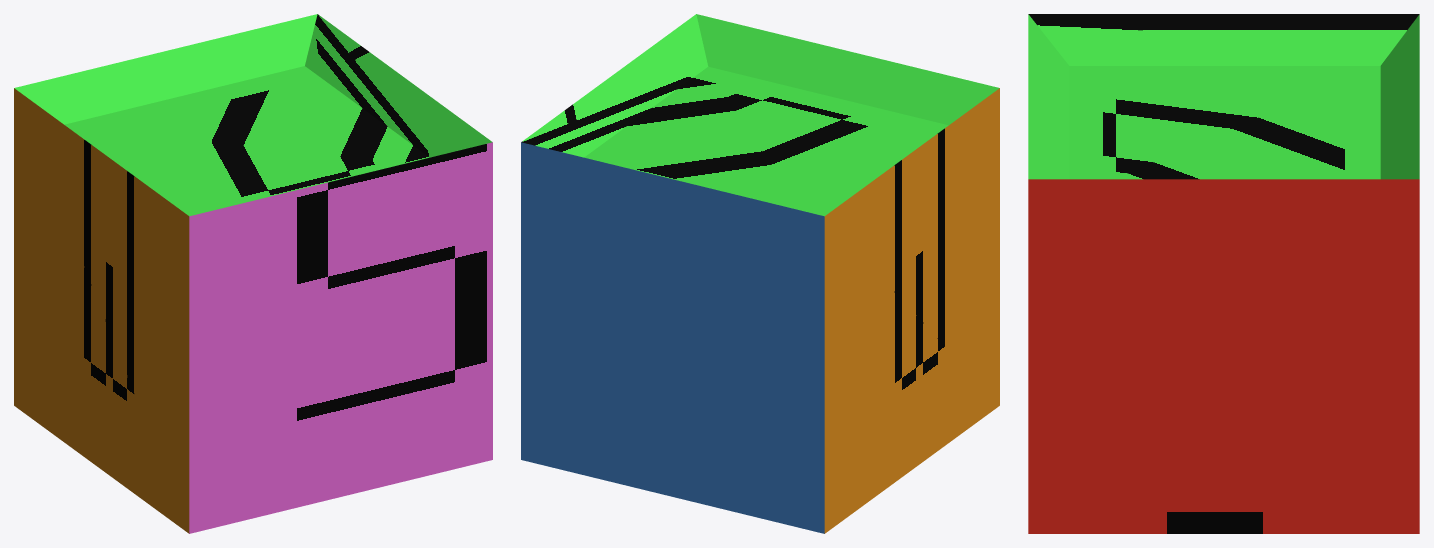
3 renders of one model, left to right at view 1: azimuth 30°, elevation 25°; view 2: azimuth 150°, elevation 25°; view 3: azimuth 270°, elevation 25°, orthographic. The views are drawn at different scales.
Parts seen in each view (by area): view 1: trail_inner_4; view 2: trail_inner_4; view 3: trail_inner_4.
Part boxes in pixels (x1,y1,x2,y2): trail_inner_4: [14, 14, 492, 533]; trail_inner_4: [521, 14, 999, 533]; trail_inner_4: [1028, 14, 1419, 533].
Size of the model in its own units: 1 by 1 by 1.
6 materials, 6 textured.
